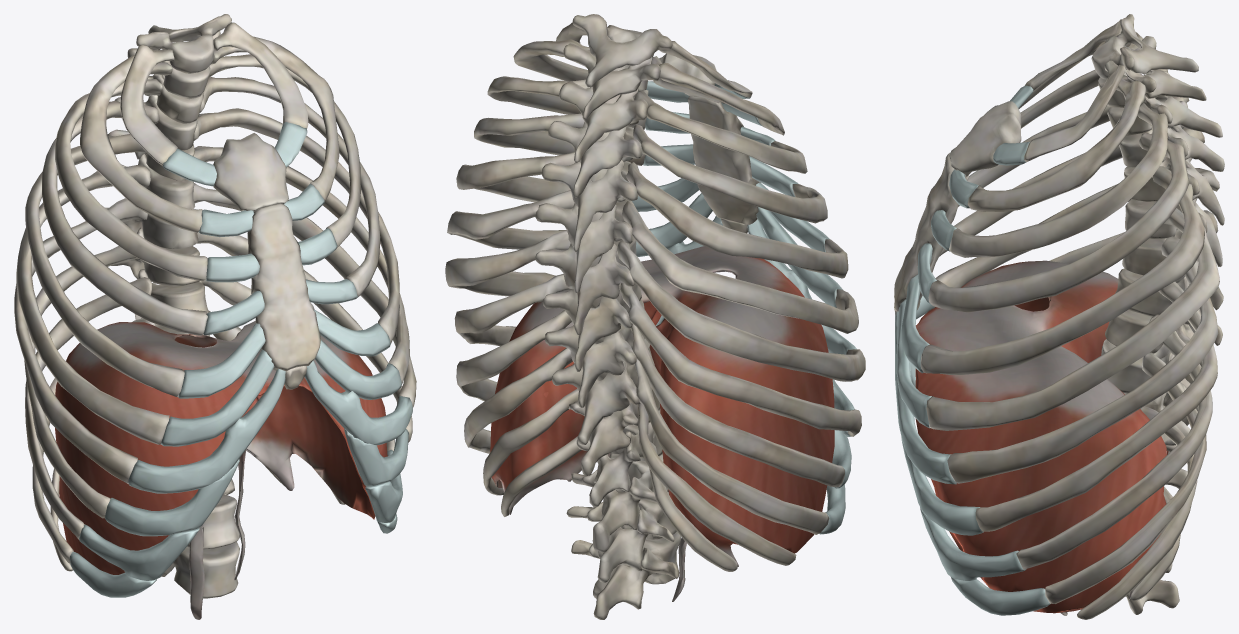
The model's file is diaphragm.glb.
3 renders of one model, left to right at view 1: azimuth 30°, elevation 25°; view 2: azimuth 150°, elevation 25°; view 3: azimuth 270°, elevation 25°, orthographic. The views are drawn at different scales.
Parts seen in each view (by area): view 1: Diaphragm, Body_of_sternum, Right_6th_rib, Right_4th_rib, Right_5th_rib, Right_3rd_rib, Right_2nd_rib, Right_7th_rib, Right_7th_costal_cartilage, Manubrium, Left_5th_rib, Right_8th_costal_cartilage (+40 smaller); view 2: Diaphragm, Right_7th_rib, Right_6th_rib, Right_8th_rib, Right_5th_rib, Right_9th_rib, Right_10th_rib, Right_4th_rib, Body_of_sternum, Left_7th_rib, Right_11th_rib, L3_vertebra (+37 smaller); view 3: Diaphragm, Left_6th_rib, Left_5th_rib, Left_7th_rib, Left_4th_rib, Left_8th_rib, Left_3rd_rib, Left_9th_rib, Left_2nd_rib, Left_10th_rib, Manubrium, Left_11th_rib (+31 smaller).
Part boxes in pixels (box(x1,y1,x2,y2)): Diaphragm: box(55, 321, 387, 619); Body_of_sternum: box(247, 203, 320, 371); Right_6th_rib: box(16, 165, 169, 444); Right_4th_rib: box(42, 100, 207, 335); Right_5th_rib: box(25, 134, 184, 396); Right_3rd_rib: box(55, 79, 207, 280); Right_2nd_rib: box(80, 55, 202, 232); Right_7th_rib: box(14, 198, 147, 484); Right_7th_costal_cartilage: box(128, 368, 285, 493); Manubrium: box(213, 133, 288, 211); Left_5th_rib: box(194, 108, 399, 343); Right_8th_costal_cartilage: box(105, 458, 239, 536); Diaphragm: box(490, 246, 834, 601); Right_7th_rib: box(617, 240, 865, 381); Right_6th_rib: box(622, 201, 858, 333); Right_8th_rib: box(620, 283, 861, 436); Right_5th_rib: box(626, 162, 848, 278); Right_9th_rib: box(630, 324, 844, 487); Right_10th_rib: box(634, 359, 829, 534); Right_4th_rib: box(633, 124, 827, 223); Body_of_sternum: box(687, 96, 760, 224); Left_7th_rib: box(445, 230, 570, 296); Right_11th_rib: box(638, 403, 796, 565); L3_vertebra: box(571, 531, 680, 619); Diaphragm: box(915, 260, 1168, 615); Left_6th_rib: box(926, 208, 1219, 430); Left_5th_rib: box(920, 166, 1204, 374); Left_7th_rib: box(947, 236, 1218, 483); Left_4th_rib: box(928, 133, 1189, 312); Left_8th_rib: box(975, 281, 1217, 531); Left_3rd_rib: box(949, 103, 1168, 257); Left_9th_rib: box(1016, 314, 1212, 569); Left_2nd_rib: box(967, 78, 1146, 211); Left_10th_rib: box(1045, 352, 1206, 603); Manubrium: box(949, 101, 1021, 176); Left_11th_rib: box(1077, 406, 1197, 619).
Bounding box in the file's own units: 0.2728 × 0.4205 × 0.2133.
63 materials, 63 textured.
